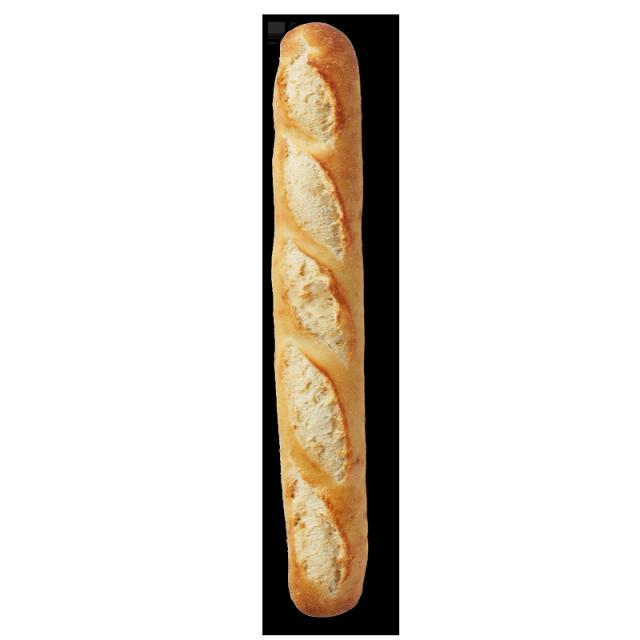Baguette: (270, 21, 370, 616)
